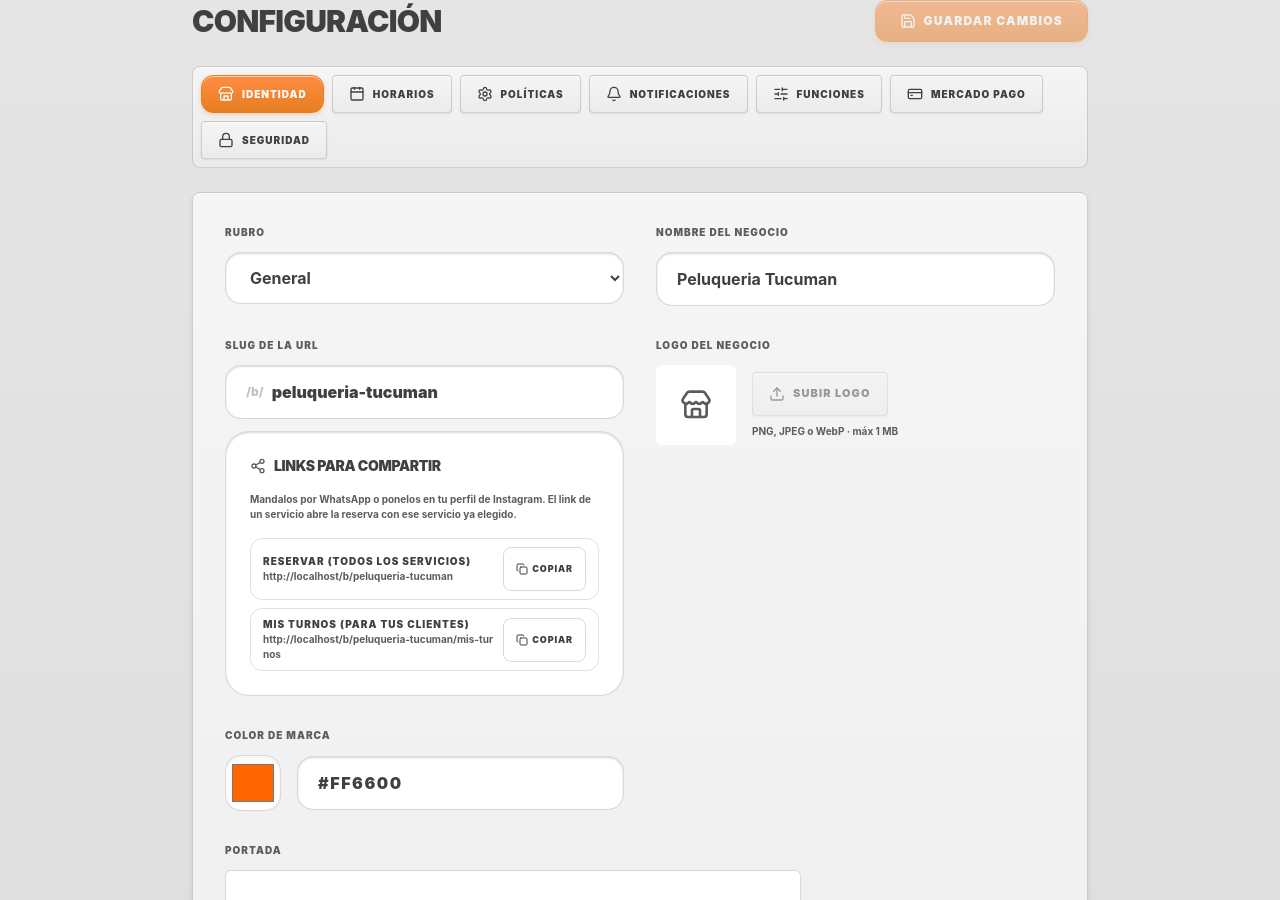
Test: SettingsPage - tienda suspendida (FF-15) › Guardar, Subir imagen y los interruptores de Funciones quedan deshabilitados
The width and height of the screenshot is (1280, 900).
Step 1. Replace the text in the field showing "Peluqueria Tucuman" with "Otro nombre" → [856, 279], box [656,252,1055,306]
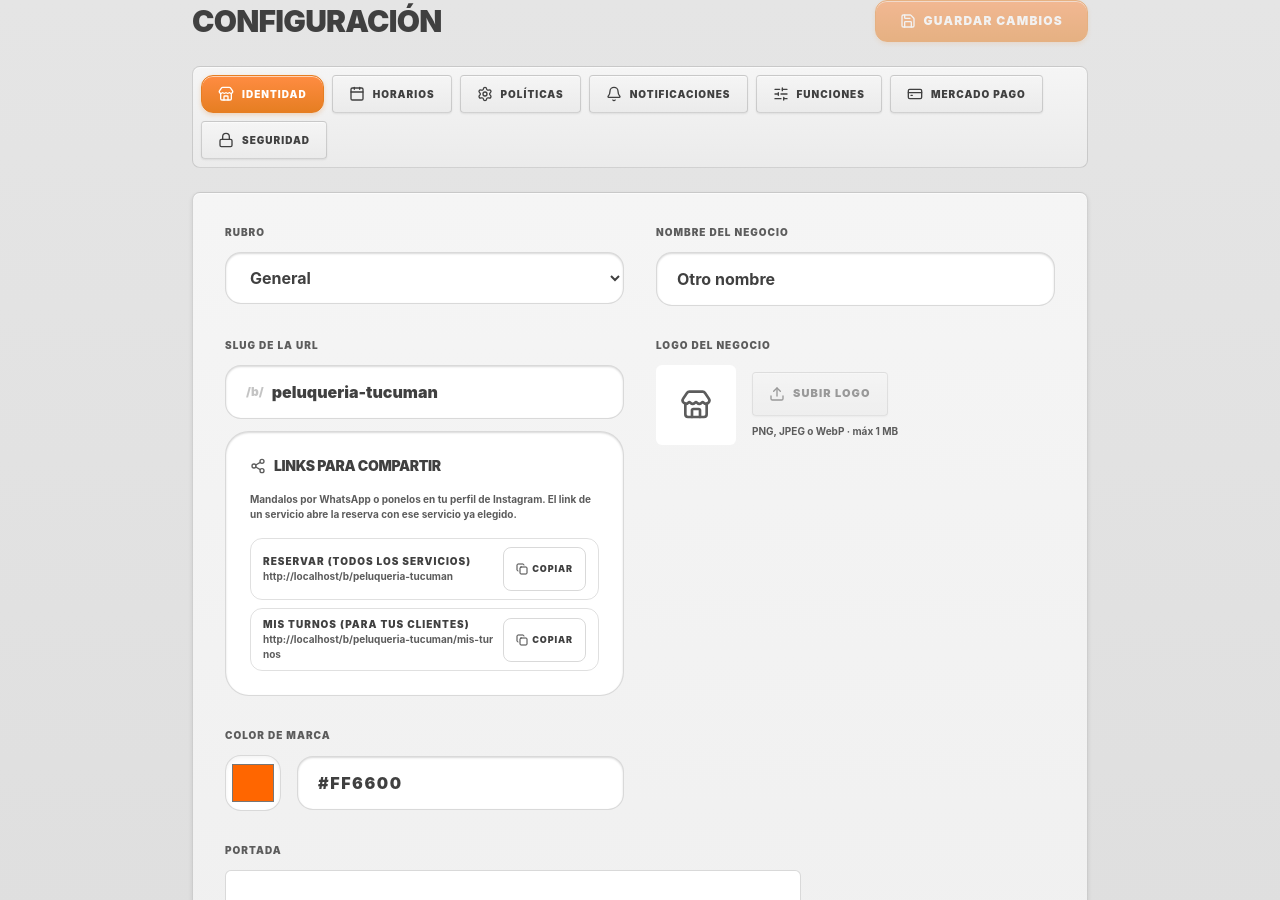
Expected: the button "Guardar Cambios" is disabled, [874,0,1088,42]
Expected: the file field labelled "Subir logo" is disabled, [752,372,888,416]
Step 2. Click the button "Funciones" → [819, 94], box [756,75,882,113]
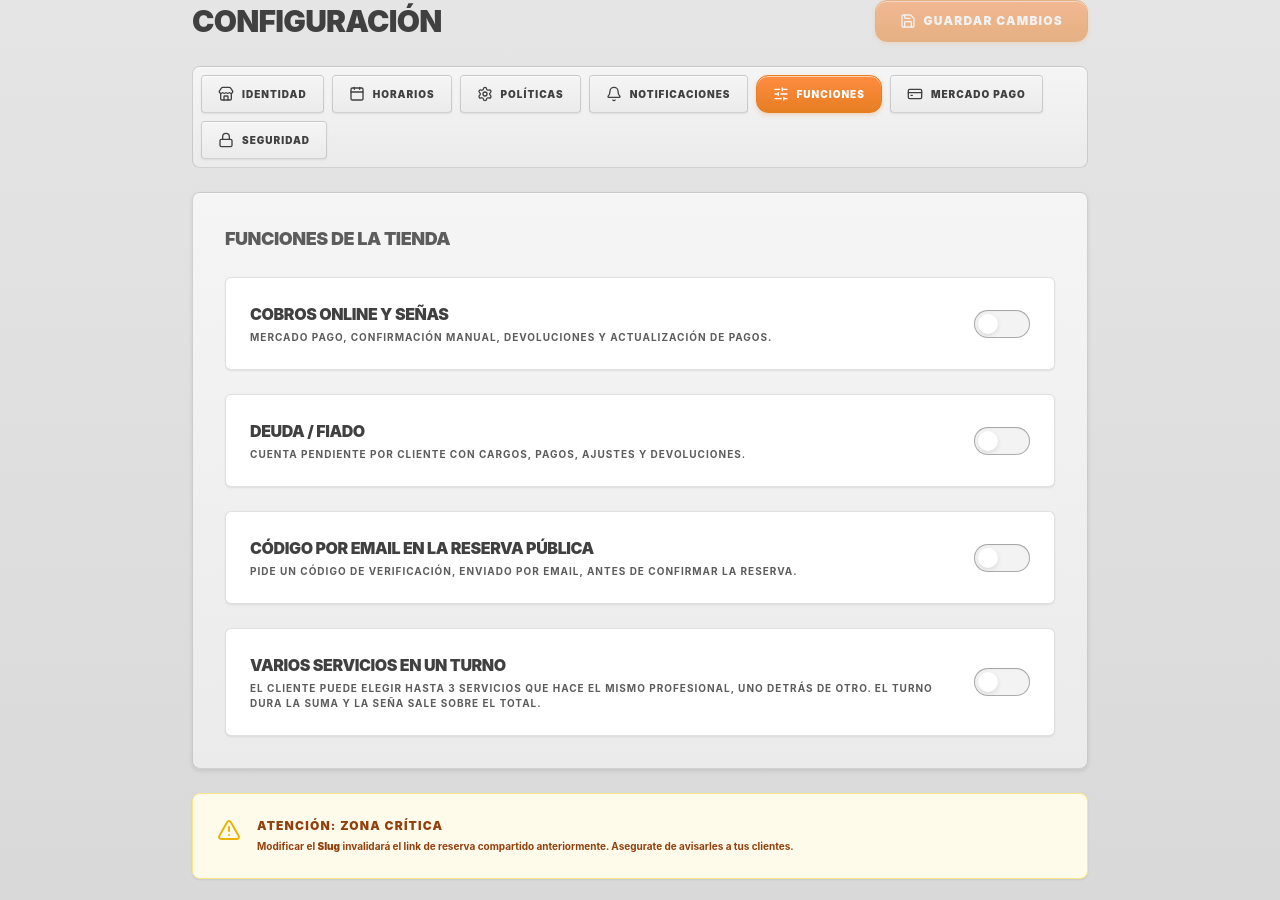
Expected: the switch named "Cobros online y señas" is disabled, [974,310,1030,338]
Expected: the switch named "Cobros online y señas" is shown, [974,310,1030,338]
